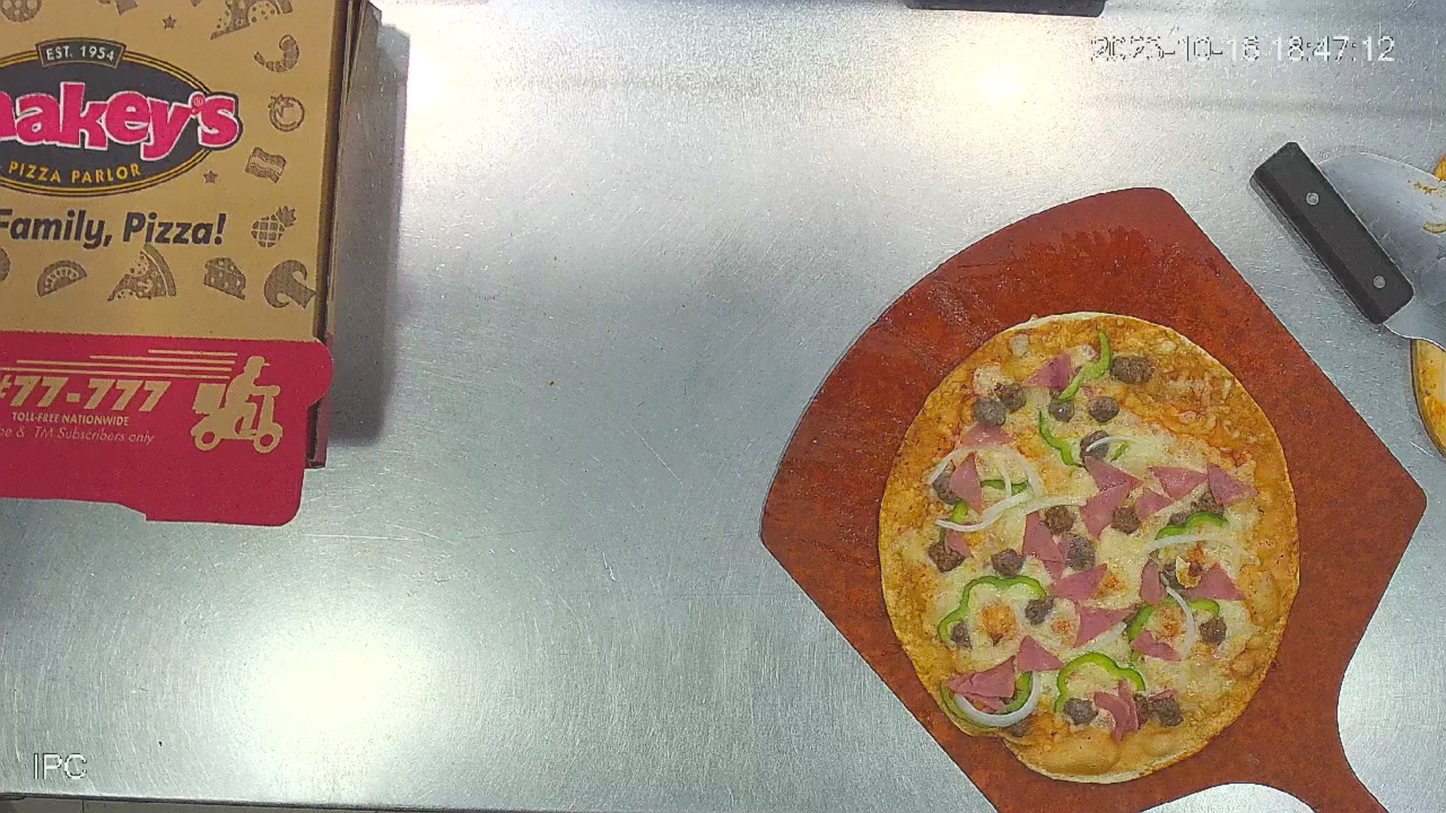manager_choice: (876, 306, 1307, 784)
